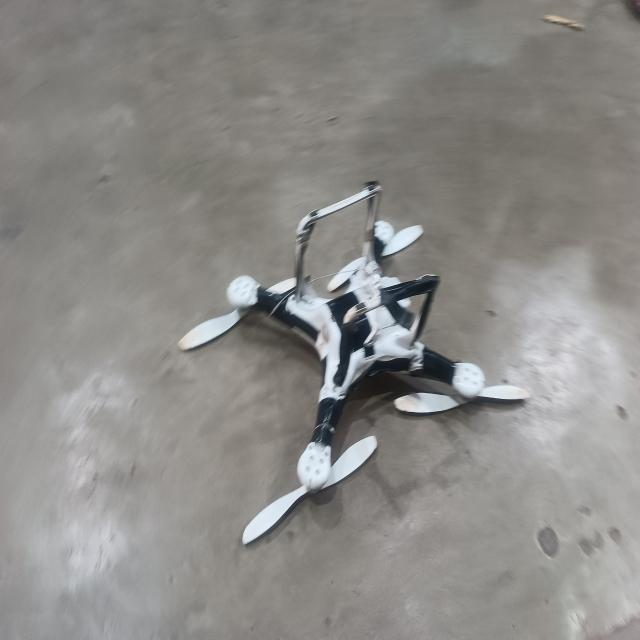drone: (159, 165, 533, 564)
